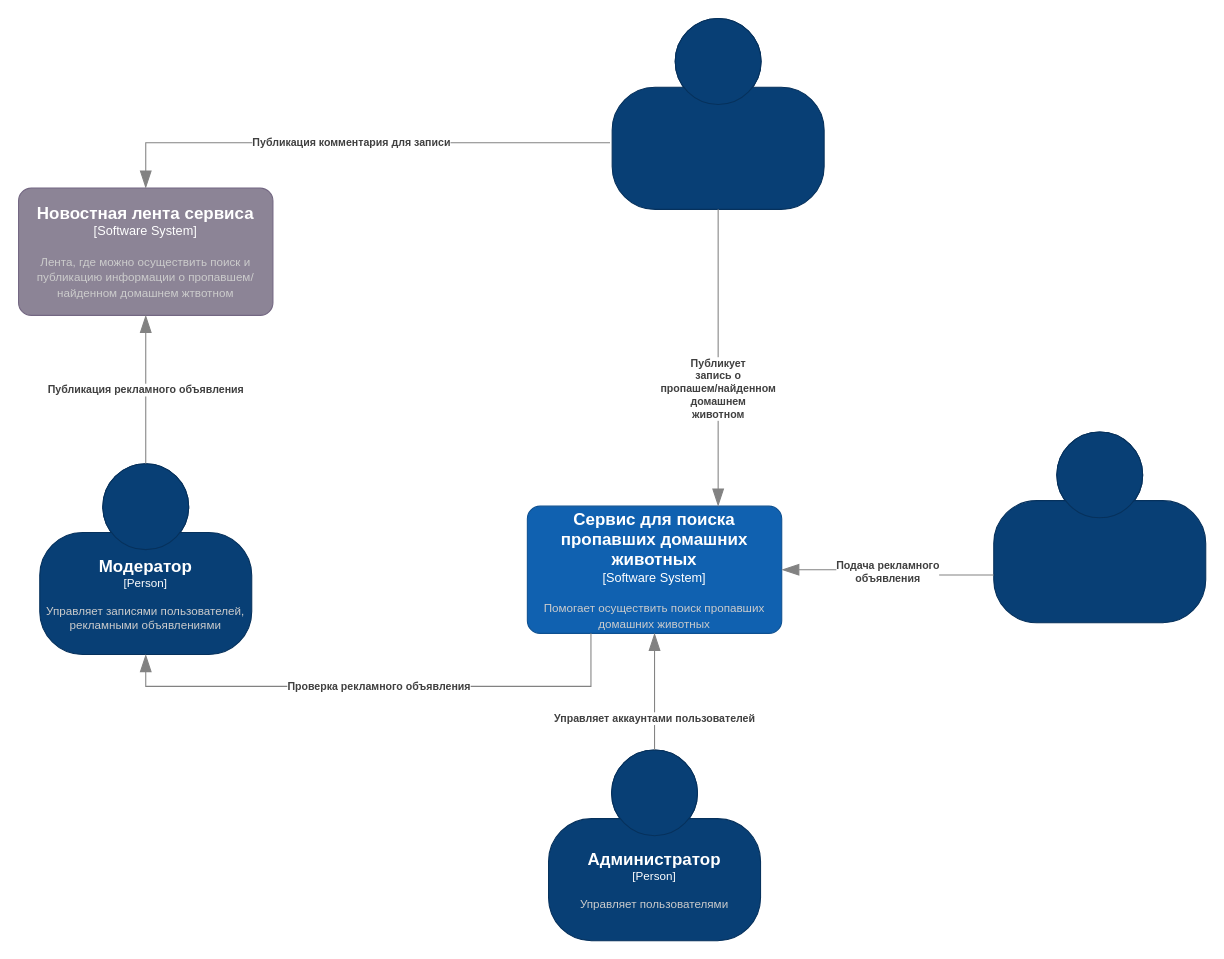
This 1224x959 diagram has some shape labels left out. Each missing label, with the centre of its shape:
"Пользователь [Person] Управляет своими записями о пропавшем/найденном животном" goes at (x=717, y=113).
"Рекламодатель [Person] Подача объявлений рекламных записей" goes at (x=1099, y=527).
